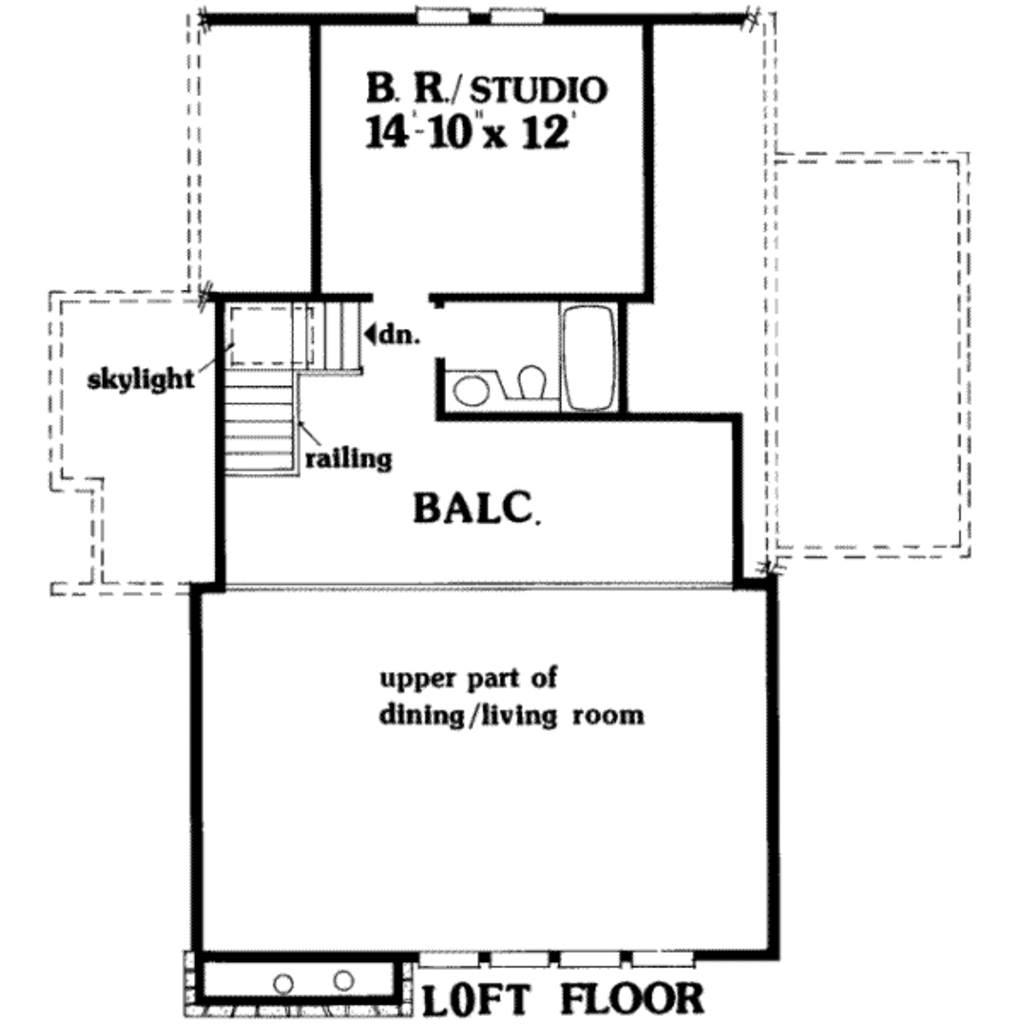small_sink: (442, 366, 501, 416)
stairs: (218, 285, 377, 503)
tub: (567, 295, 625, 414)
window: (480, 3, 547, 35), (552, 946, 625, 973), (486, 947, 556, 974), (418, 947, 483, 970), (417, 3, 474, 25), (634, 952, 698, 968)
